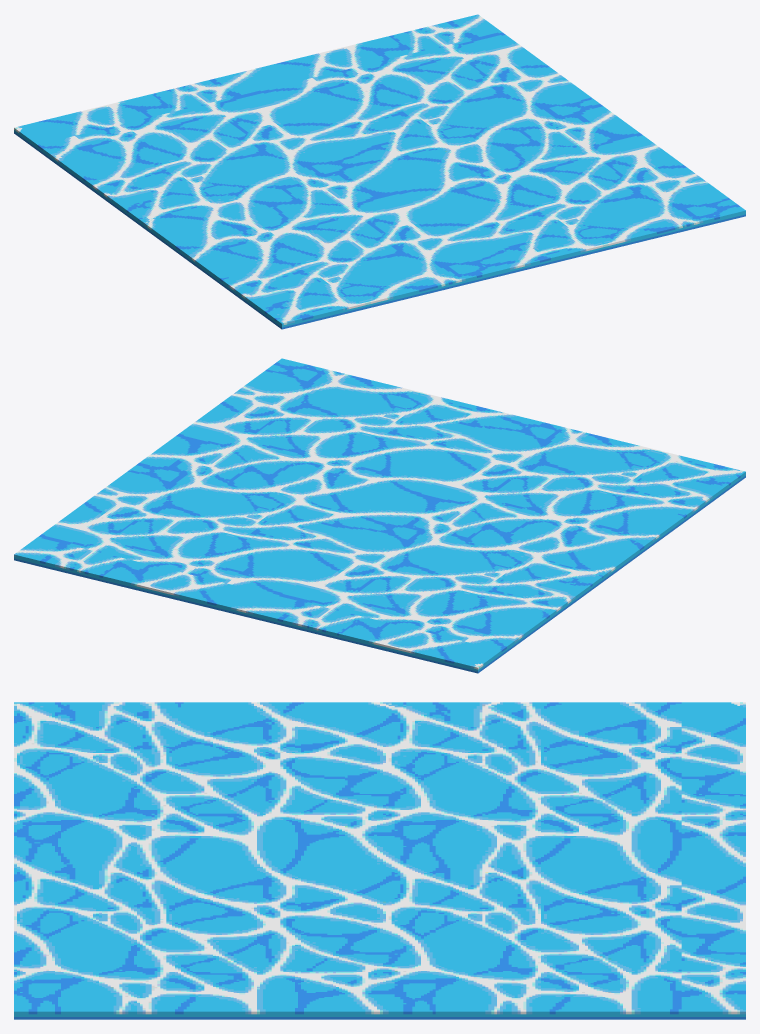
File: water_block.fbx
3 views of the same model, one above another, from view 1: azimuth 30°, elevation 25°; view 2: azimuth 150°, elevation 25°; view 3: azimuth 270°, elevation 25° (orthographic). The views are drawn at different scales.
Visible parts, largest first — view 1: istockphoto-1246806364-612x612; view 2: istockphoto-1246806364-612x612; view 3: istockphoto-1246806364-612x612.
Boxes of the visible parts, x1,y1,x2,y2 form: istockphoto-1246806364-612x612: (14, 14, 745, 329); istockphoto-1246806364-612x612: (14, 358, 745, 673); istockphoto-1246806364-612x612: (14, 702, 745, 1019).
Bounding box in the file's own units: 1 × 0.012 × 1.
Materials: 1 (1 with a texture image).
